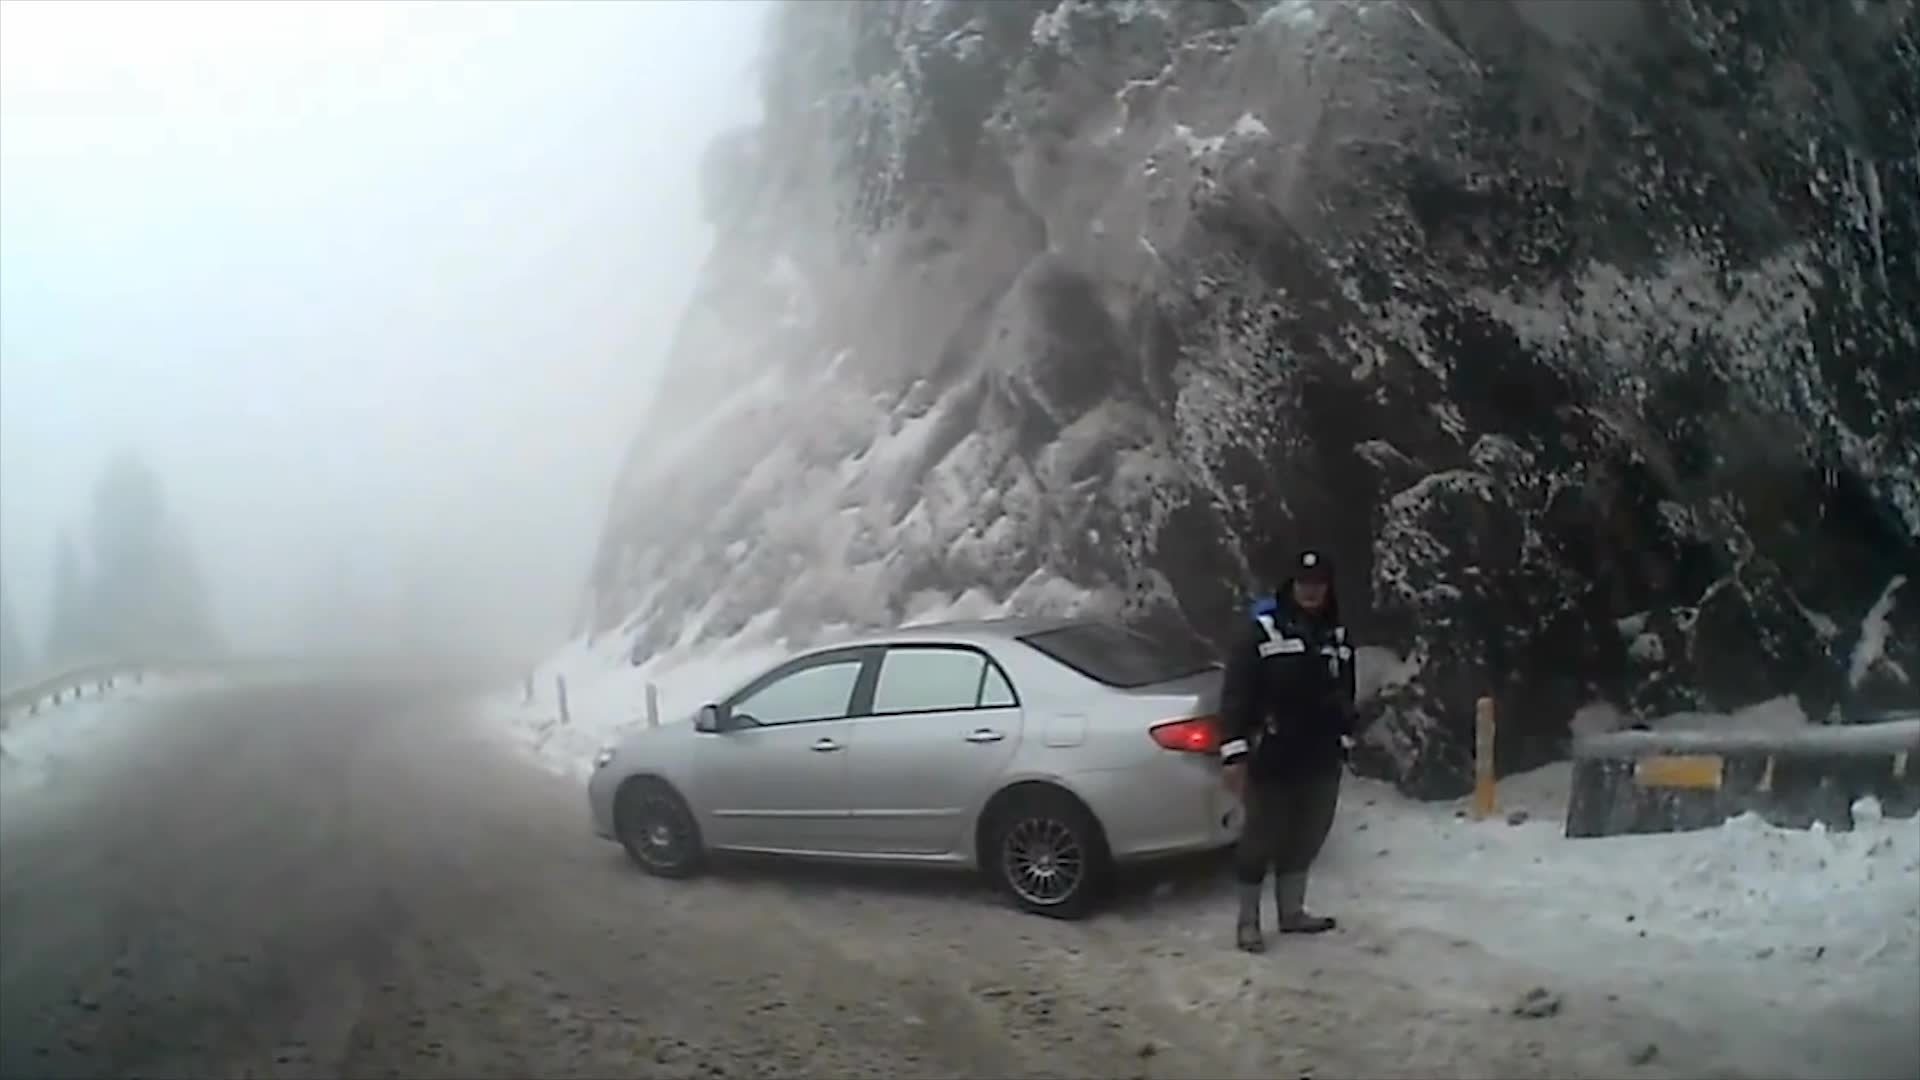pedestrian: (1215, 545, 1364, 957)
vehicle: (587, 619, 1314, 923)
